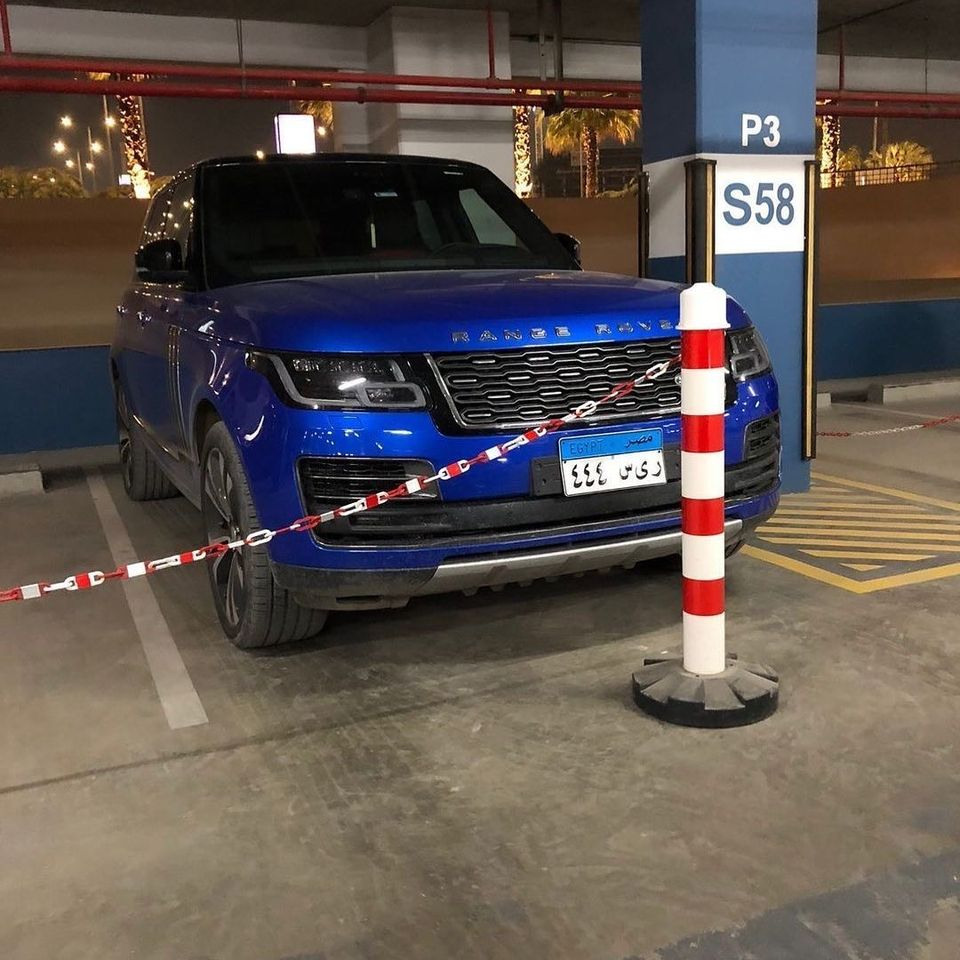carpl: (559, 430, 668, 492)
